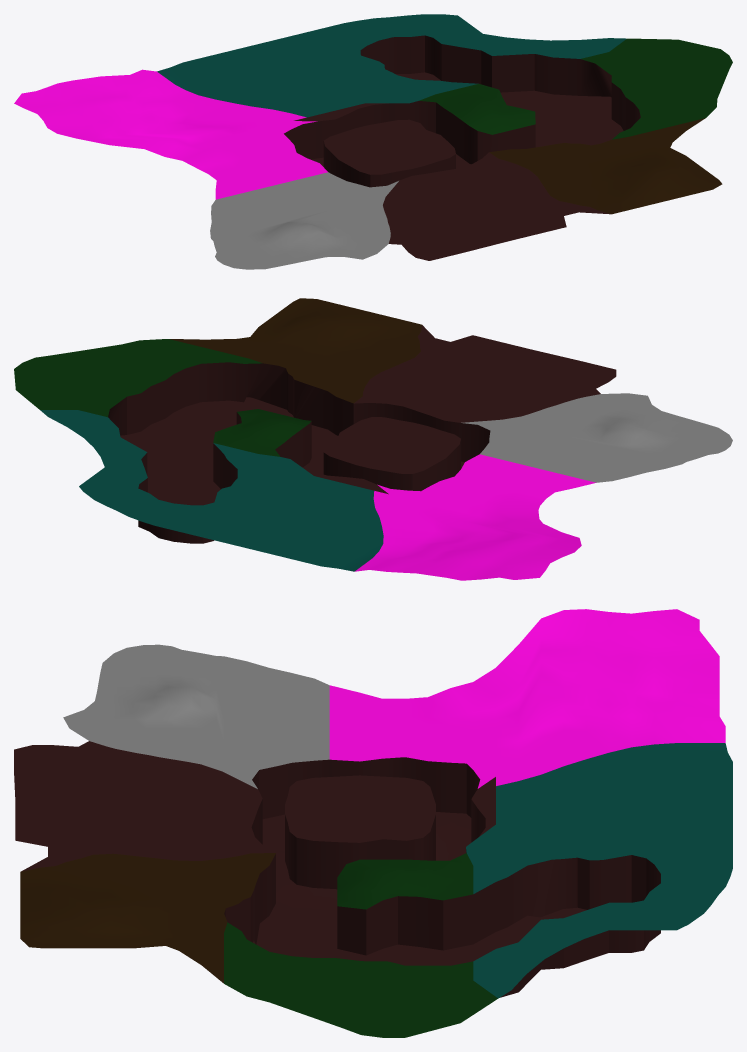
The model's file is Land.obj.
The picture shows the model from 3 angles, top to bottom: view 1: azimuth 30°, elevation 25°; view 2: azimuth 150°, elevation 25°; view 3: azimuth 270°, elevation 25°; orthographic projection. The views are drawn at different scales.
Parts seen in each view (by area): view 1: pPlane3; view 2: pPlane3; view 3: pPlane3.
Part boxes in pixels (bbox=[...]): pPlane3: bbox=[14, 14, 732, 269]; pPlane3: bbox=[14, 298, 732, 580]; pPlane3: bbox=[14, 609, 732, 1037].
Bounding box in the file's own units: 65.83 × 5.93 × 49.84.
